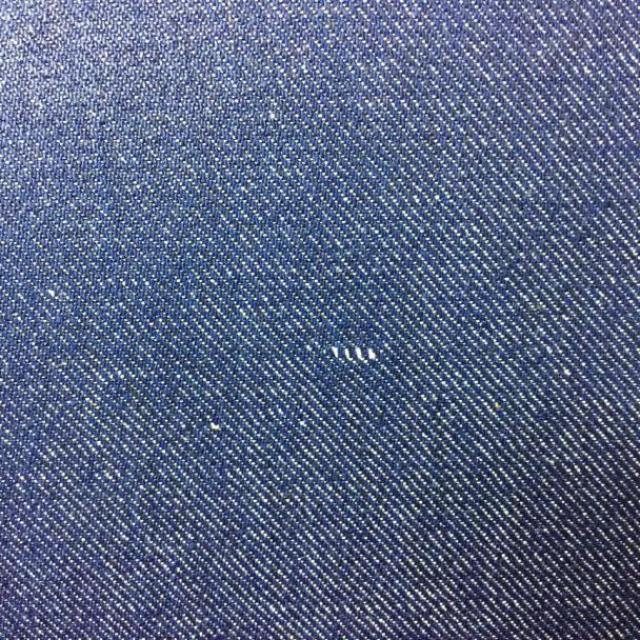Knot: (331, 347, 378, 363)
